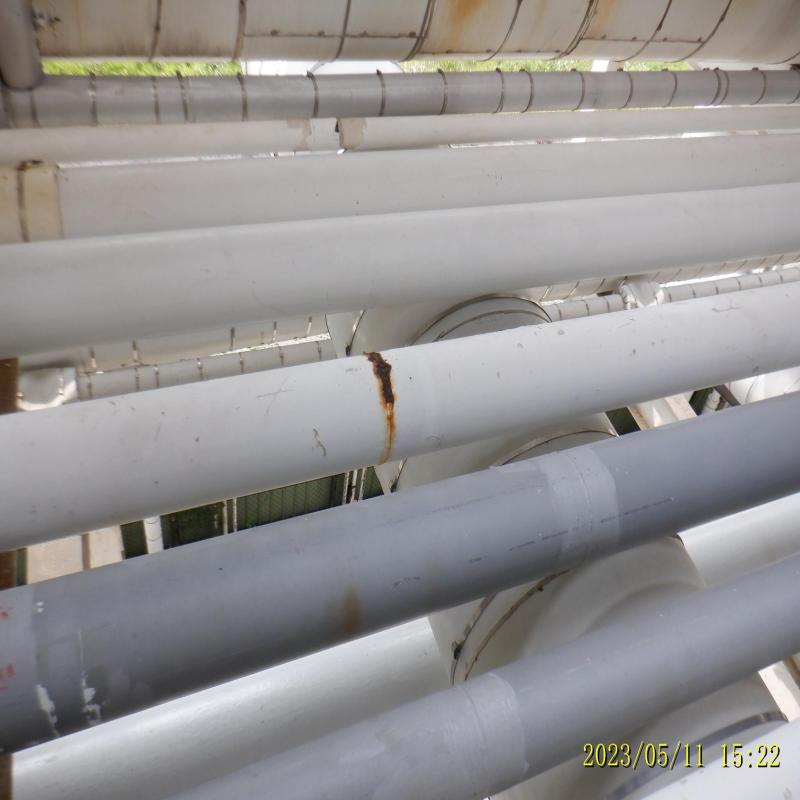corrosion: (104, 234, 531, 289)
